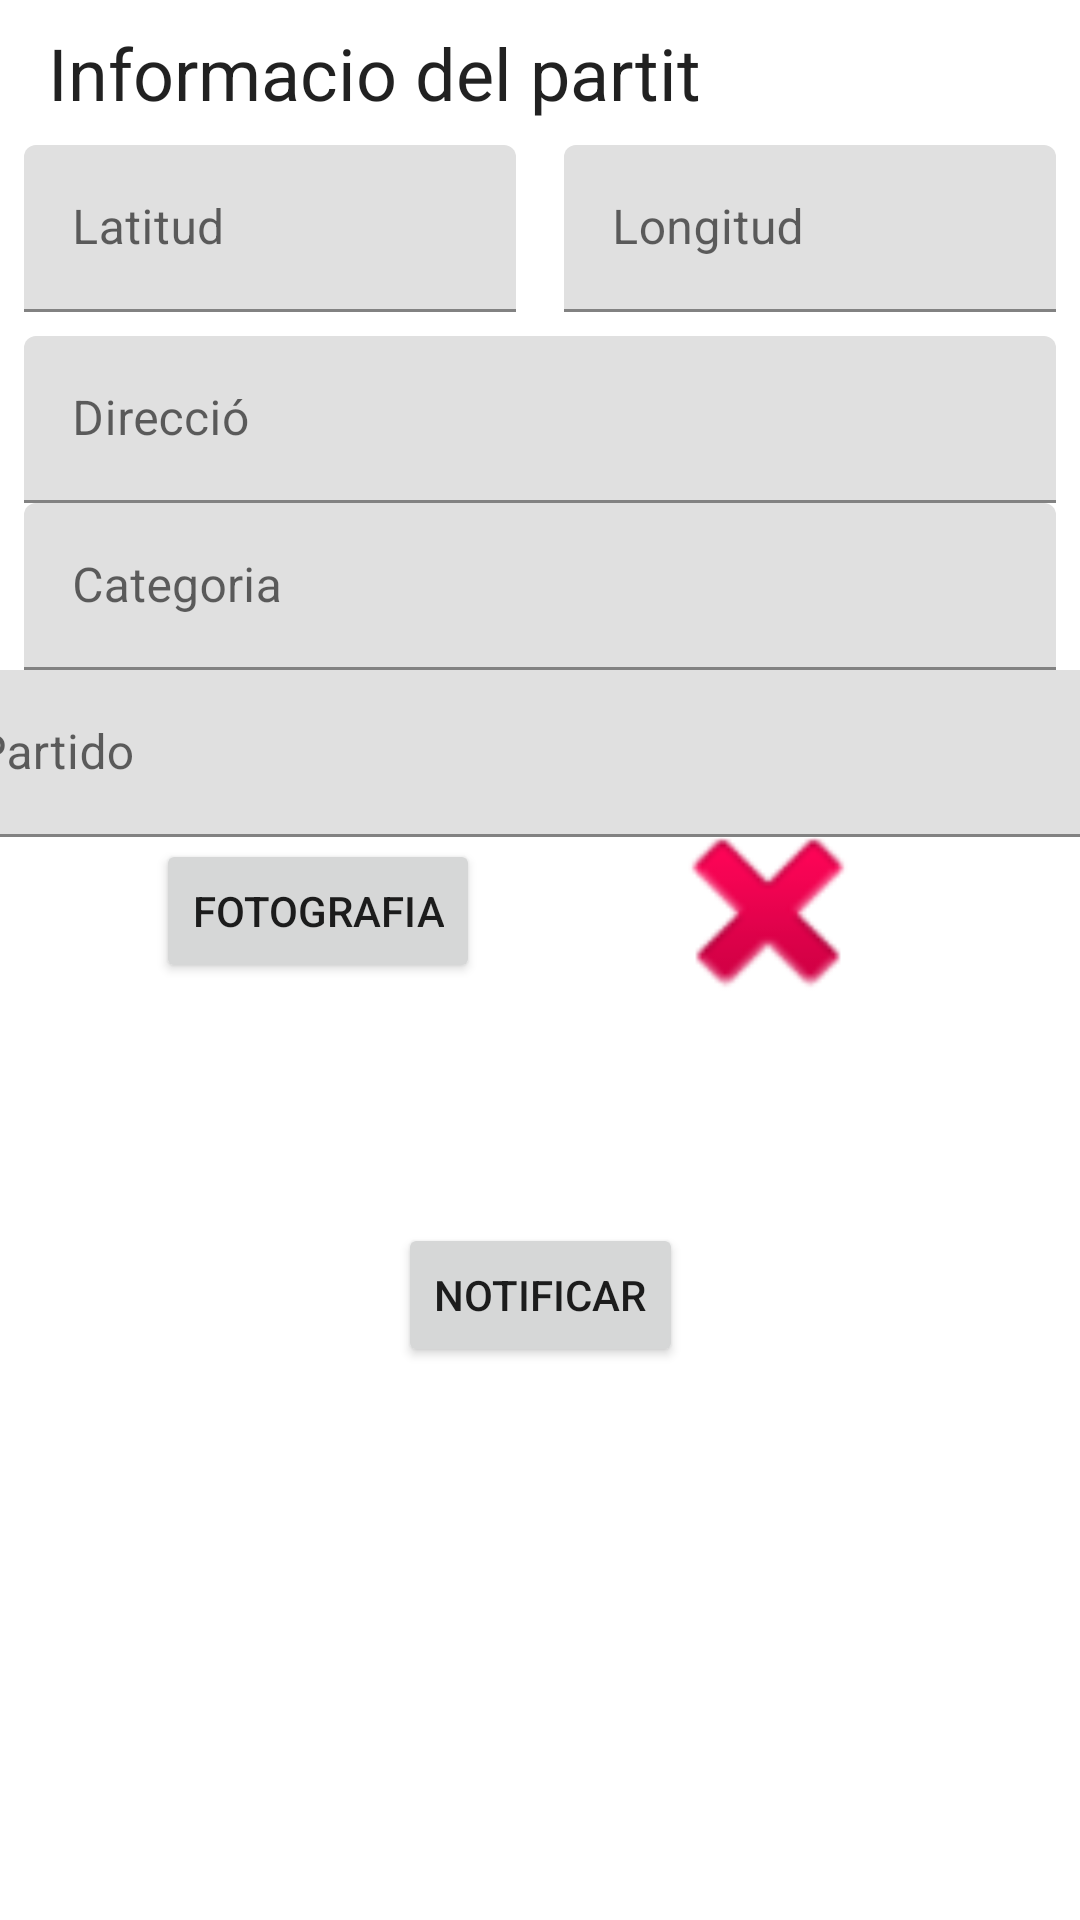

Point at icon controls on the screen. Image size 1080*1920, points as (x=x, y=y).
delete: (x=768, y=912)
